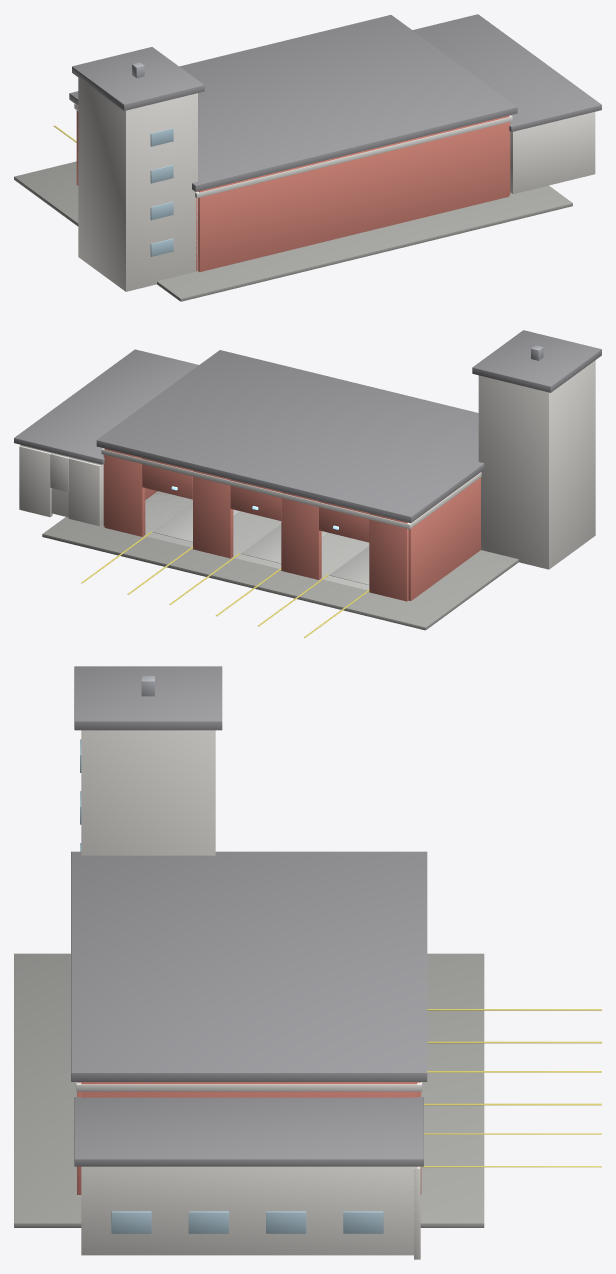
Rendered from th20_feuerwache.glb.
3 views of the same model, one above another, from view 1: azimuth 30°, elevation 25°; view 2: azimuth 150°, elevation 25°; view 3: azimuth 270°, elevation 25° (orthographic). The views are drawn at different scales.
Visible parts, largest first — view 1: Cube.012, Cube.009, Cube.029, Cube, Cube.037, Cube.036, Cube.030, Cube.013, Cube.010; view 2: Cube.012, Cube.029, Cube, Cube.037, Cube.010, Cube.030, Cube.001, Cube.005, Cube.002, Cube.003, Cube.004, Cube.013 (+10 smaller); view 3: Cube.012, Cube, Cube.036, Cube.037, Cube.029, Cube.030, Cube.011, Cube.013, Cube.039, Cube.045, Cube.041, Cube.043.
Boxes of the visible parts, x1,y1,x2,y2 form: Cube.012: [69, 15, 517, 191]; Cube.009: [198, 115, 509, 271]; Cube.029: [78, 78, 197, 291]; Cube: [14, 161, 572, 301]; Cube.037: [412, 14, 601, 131]; Cube.036: [510, 112, 595, 193]; Cube.030: [72, 47, 204, 110]; Cube.013: [74, 103, 512, 198]; Cube.010: [76, 110, 198, 270]; Cube.012: [96, 350, 484, 522]; Cube.029: [478, 360, 595, 569]; Cube: [42, 491, 518, 630]; Cube.037: [14, 349, 198, 464]; Cube.010: [408, 475, 480, 600]; Cube.030: [472, 330, 601, 392]; Cube.001: [144, 491, 369, 590]; Cube.005: [104, 448, 145, 536]; Cube.002: [369, 513, 408, 601]; Cube.003: [281, 491, 321, 579]; Cube.004: [193, 470, 233, 558]; Cube.013: [101, 448, 481, 529]; Cube.012: [71, 851, 427, 1081]; Cube: [14, 953, 484, 1227]; Cube.036: [81, 1166, 417, 1255]; Cube.037: [74, 1097, 423, 1166]; Cube.029: [81, 730, 215, 855]; Cube.030: [74, 666, 222, 730]; Cube.011: [81, 1082, 417, 1097]; Cube.013: [76, 1082, 422, 1091]; Cube.039: [111, 1211, 151, 1233]; Cube.045: [343, 1211, 383, 1233]; Cube.041: [188, 1211, 228, 1233]; Cube.043: [266, 1211, 306, 1233].
Size of the model in its own units: 46.3 by 18.6 by 35.
